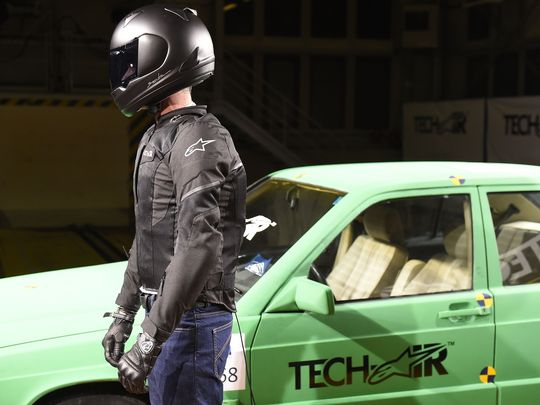helmet: (105, 4, 215, 126)
